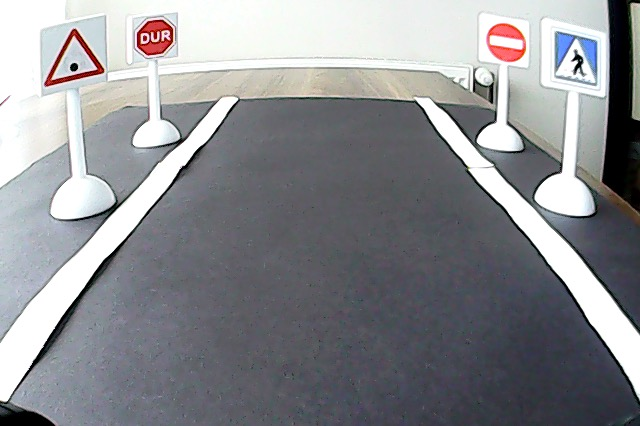do not enter: (484, 19, 530, 65)
green light: (41, 25, 108, 91)
pedestrian crossing: (549, 23, 602, 93)
stop sign: (131, 14, 179, 59)
